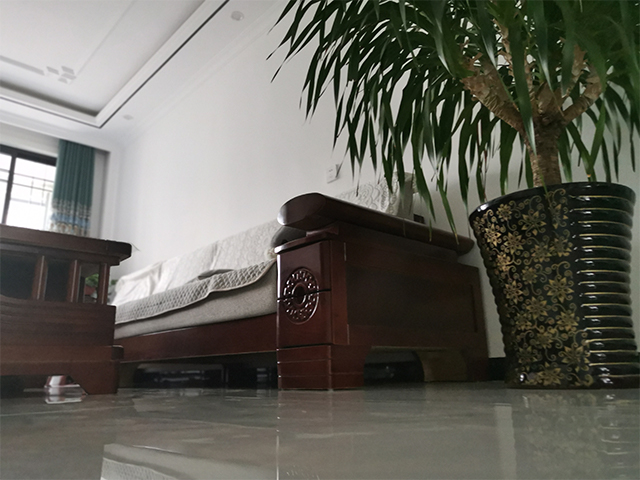sofa: (108, 169, 493, 394)
table: (1, 220, 133, 397)
